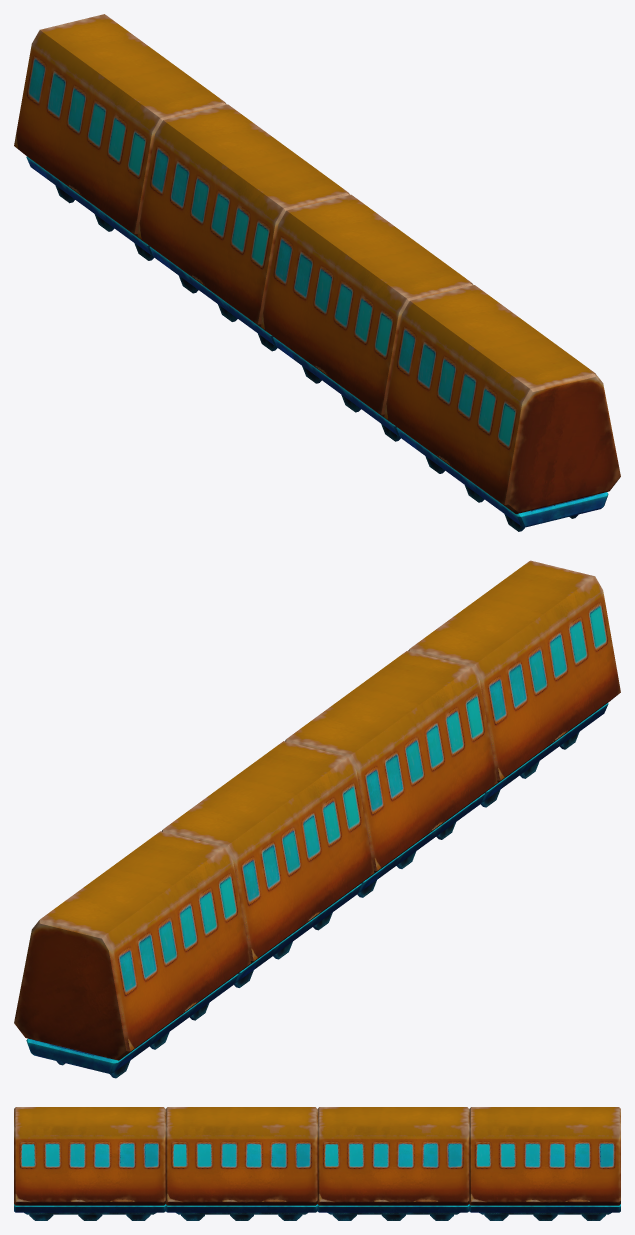
Rendered from trem.obj.
3 renders of one model, top to bottom at view 1: azimuth 30°, elevation 25°; view 2: azimuth 150°, elevation 25°; view 3: azimuth 270°, elevation 25°, orthographic. The views are drawn at different scales.
Visible parts, largest first — view 1: train_008_TT_checker_2048x2048_UV_GRID_001_0; view 2: train_008_TT_checker_2048x2048_UV_GRID_001_0; view 3: train_008_TT_checker_2048x2048_UV_GRID_001_0.
Boxes of the visible parts, x1,y1,x2,y2 form: train_008_TT_checker_2048x2048_UV_GRID_001_0: [14, 14, 620, 531]; train_008_TT_checker_2048x2048_UV_GRID_001_0: [14, 560, 620, 1078]; train_008_TT_checker_2048x2048_UV_GRID_001_0: [14, 1107, 620, 1220].
Size of the model in its own units: 2.68 by 3.42 by 19.69.
